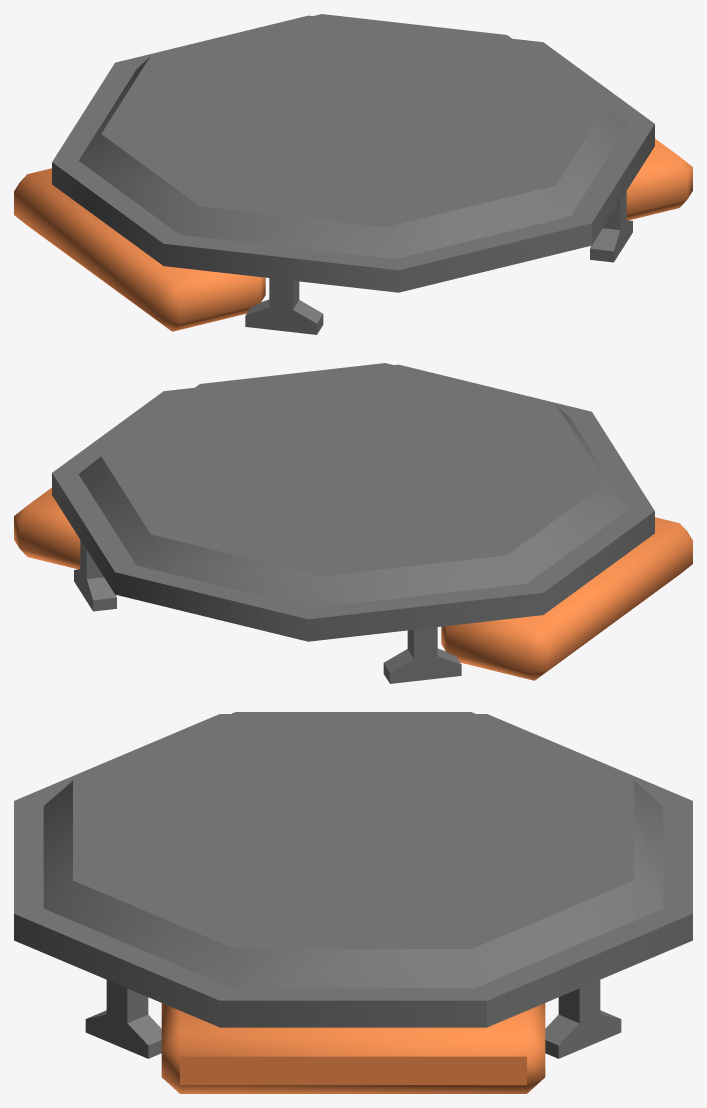
Rendered from SpotMedium.fbx.
3 views of the same model, one above another, from view 1: azimuth 30°, elevation 25°; view 2: azimuth 150°, elevation 25°; view 3: azimuth 270°, elevation 25° (orthographic). The views are drawn at different scales.
Visible parts, largest first — view 1: SpotMedium; view 2: SpotMedium; view 3: SpotMedium.
Boxes of the visible parts, x1,y1,x2,y2 form: SpotMedium: (14,14,692,334); SpotMedium: (14,363,692,683); SpotMedium: (14,712,692,1093).
Bounding box in the file's own units: 3.25 × 0.5596 × 2.99.
